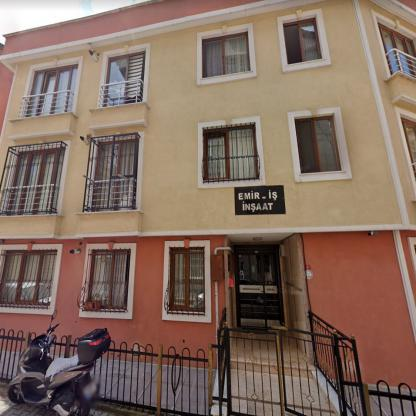door: (234, 245, 284, 336)
window: (2, 149, 64, 210), (83, 139, 136, 210), (0, 250, 56, 304), (203, 127, 256, 182), (295, 115, 341, 174), (25, 66, 76, 116), (87, 252, 127, 310), (172, 249, 206, 312), (104, 54, 144, 105), (203, 34, 247, 76), (284, 16, 321, 63), (380, 25, 414, 74), (404, 117, 416, 175)
